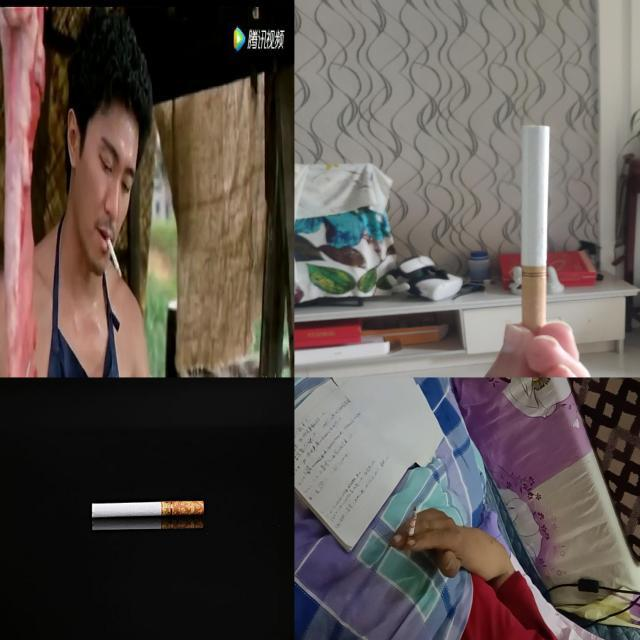cigarette: (520, 124, 552, 330), (90, 501, 208, 518), (91, 518, 205, 530), (105, 235, 123, 282), (404, 506, 418, 556)
